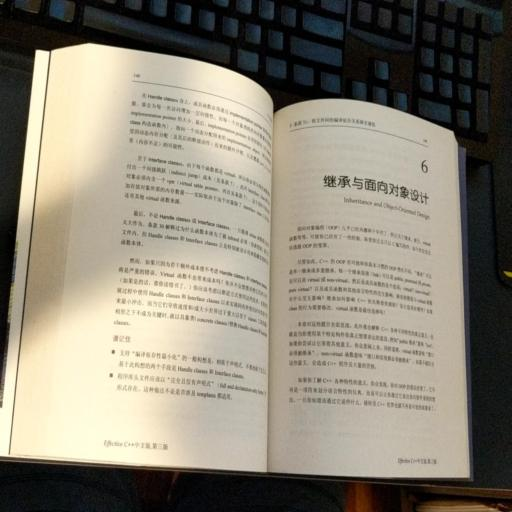paper: (8, 7, 478, 490)
